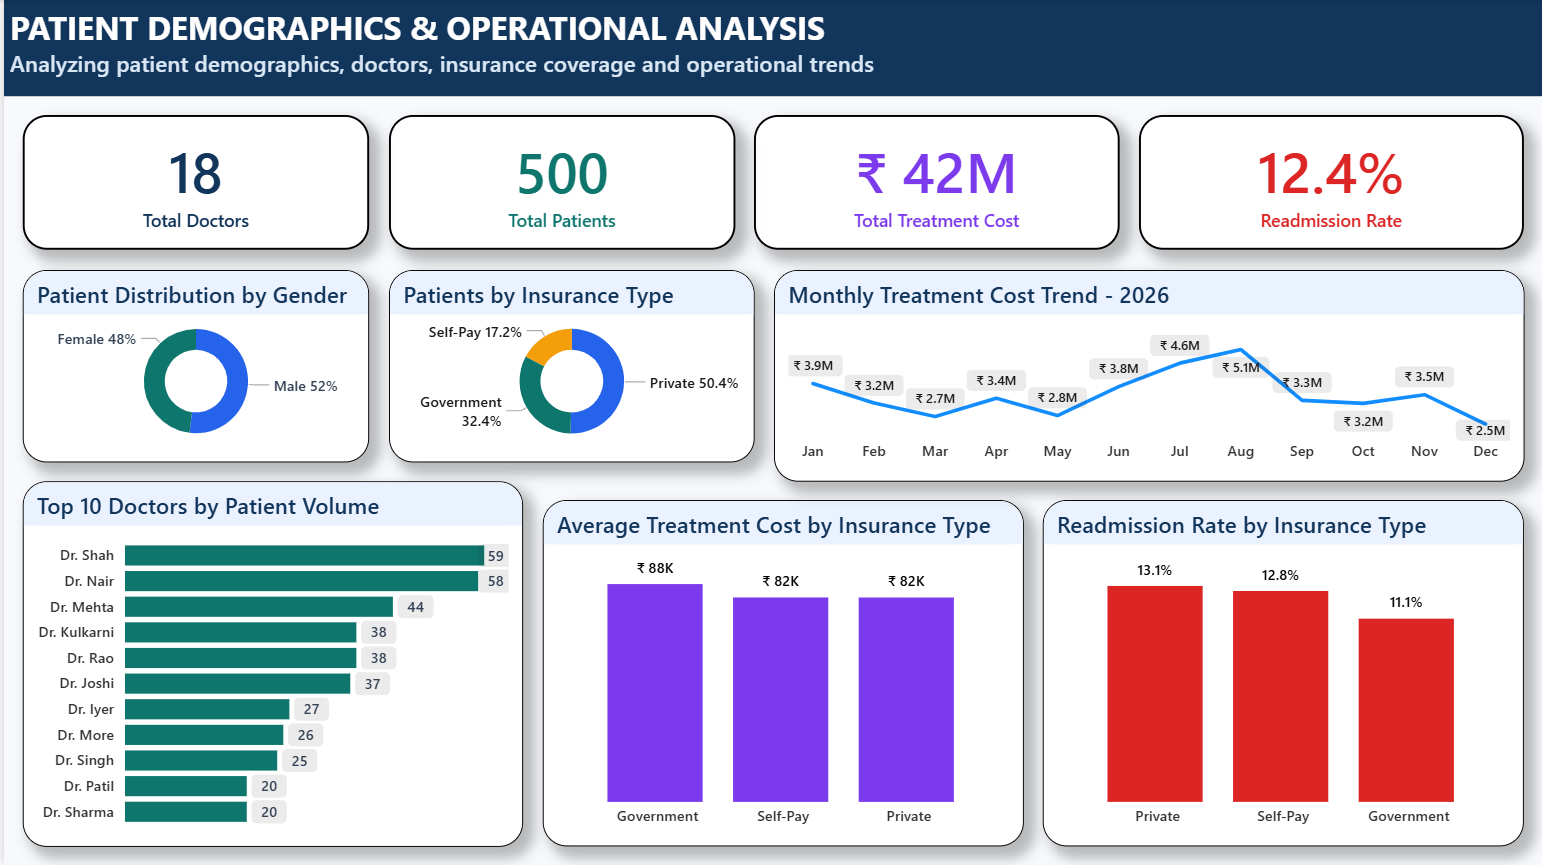

The page's visual inventory and layout, read from the dashboard file:
{"tool":"powerbi","page":{"name":"Patient Demographics","canvas":[1280,720],"ordinal":3},"visuals":[{"type":"textbox","box":[0,0,1280,80],"z":0},{"type":"card","fields":{"Values":["Table1.Total Treatment Cost"]},"box":[624,96,304,112],"z":1000},{"type":"card","fields":{"Values":["Table1.Total Patients"]},"box":[320,96,288,112],"z":2000},{"type":"card","fields":{"Values":["Table1.Total Doctors"]},"box":[16,96,288,112],"z":3000},{"type":"card","fields":{"Values":["Table1.Readmission Rate"]},"box":[944,96,320,112],"z":4000},{"type":"donutChart","title":"Patient Distribution by Gender","fields":{"Category":["Table1.Gender"],"Y":["Table1.Total Patients"]},"box":[16,224,288,160],"z":5000},{"type":"donutChart","title":"Patients by Insurance Type","fields":{"Category":["Table1.Insurance_Type"],"Y":["Table1.Total Patients"]},"box":[320,224,304,160],"z":6000},{"type":"clusteredBarChart","title":"Top 10 Doctors by Patient Volume","fields":{"Category":["Table1.Doctor"],"Y":["Table1.Total Patients"]},"box":[16,400,416,304],"z":7000},{"type":"clusteredColumnChart","title":"Average Treatment Cost by Insurance Type","fields":{"Category":["Table1.Insurance_Type"],"Y":["Table1.Average Treatment Cost"]},"box":[448,416,400,288],"z":8000},{"type":"lineChart","title":"Monthly Treatment Cost Trend - 2026","fields":{"Y":["Table1.Total Treatment Cost"],"Category":["Table1.Month_short"]},"box":[640,224,624,176],"z":9000},{"type":"clusteredColumnChart","title":"Readmission Rate by Insurance Type","fields":{"Category":["Table1.Insurance_Type"],"Y":["Table1.Readmission Rate"]},"box":[864,416,400,288],"z":10000}]}

Visuals, with their boxes in screenshot pixels (x1, y1, x2, y2), scaled from the page's 1280x720 canvas onto the 1542x865 screenshot:
textbox: {"left": 0, "top": 0, "right": 1541, "bottom": 96}
card - Table1.Total Treatment Cost: {"left": 752, "top": 115, "right": 1118, "bottom": 250}
card - Table1.Total Patients: {"left": 386, "top": 115, "right": 732, "bottom": 250}
card - Table1.Total Doctors: {"left": 19, "top": 115, "right": 366, "bottom": 250}
card - Table1.Readmission Rate: {"left": 1137, "top": 115, "right": 1523, "bottom": 250}
"Patient Distribution by Gender" donutChart: {"left": 19, "top": 269, "right": 366, "bottom": 461}
"Patients by Insurance Type" donutChart: {"left": 386, "top": 269, "right": 752, "bottom": 461}
"Top 10 Doctors by Patient Volume" clusteredBarChart: {"left": 19, "top": 481, "right": 520, "bottom": 846}
"Average Treatment Cost by Insurance Type" clusteredColumnChart: {"left": 540, "top": 500, "right": 1022, "bottom": 846}
"Monthly Treatment Cost Trend - 2026" lineChart: {"left": 771, "top": 269, "right": 1523, "bottom": 481}
"Readmission Rate by Insurance Type" clusteredColumnChart: {"left": 1041, "top": 500, "right": 1523, "bottom": 846}
